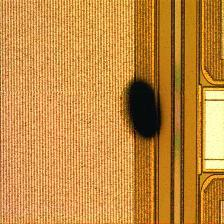PARTICLE: (107, 71, 183, 147)
